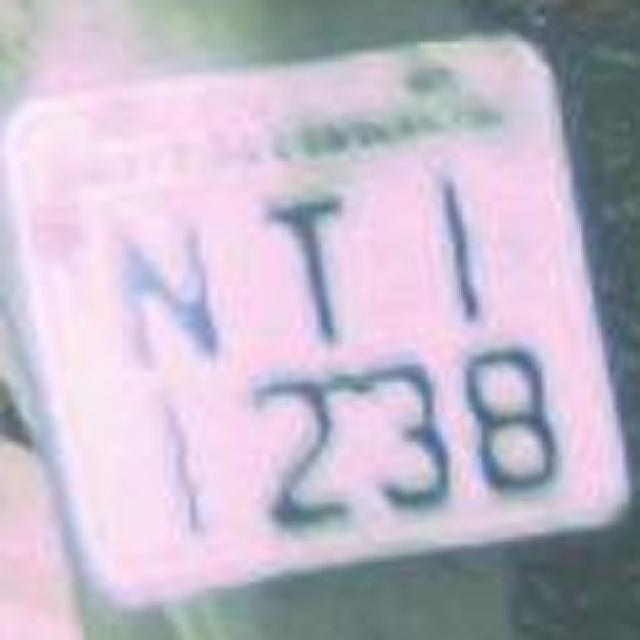1: (132, 364, 240, 564)
2: (224, 356, 376, 544)
3: (312, 340, 476, 528)
8: (448, 316, 580, 516)
N: (92, 195, 236, 380)
T: (248, 168, 380, 352)
